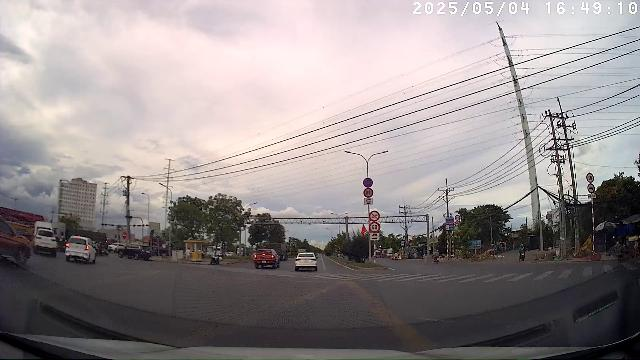127-toc-do-toi-da-60: (370, 222, 380, 232)
127-toc-do-toi-da-80: (363, 188, 373, 198)
130-cam-dung-va-do-xe: (363, 178, 373, 188)
